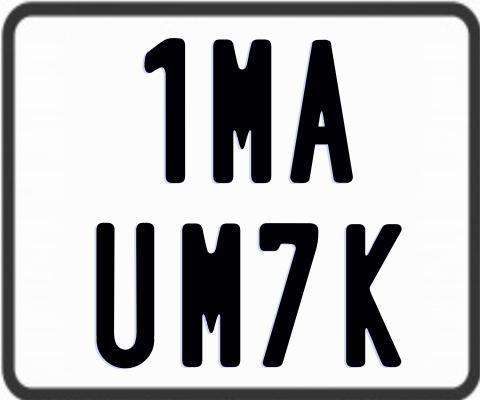1: (144, 35, 188, 183)
7: (259, 221, 318, 371)
A: (289, 37, 356, 182)
K: (345, 224, 407, 369)
M: (210, 36, 272, 180), (180, 221, 241, 365)
U: (93, 222, 154, 368)
